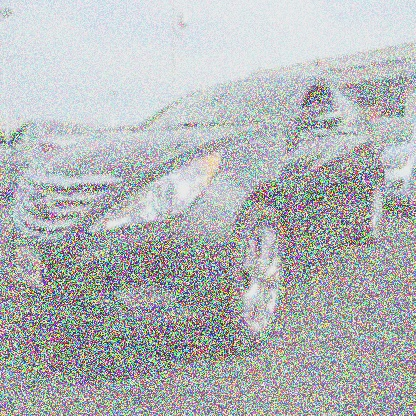Vehicle: (6, 76, 388, 356)
